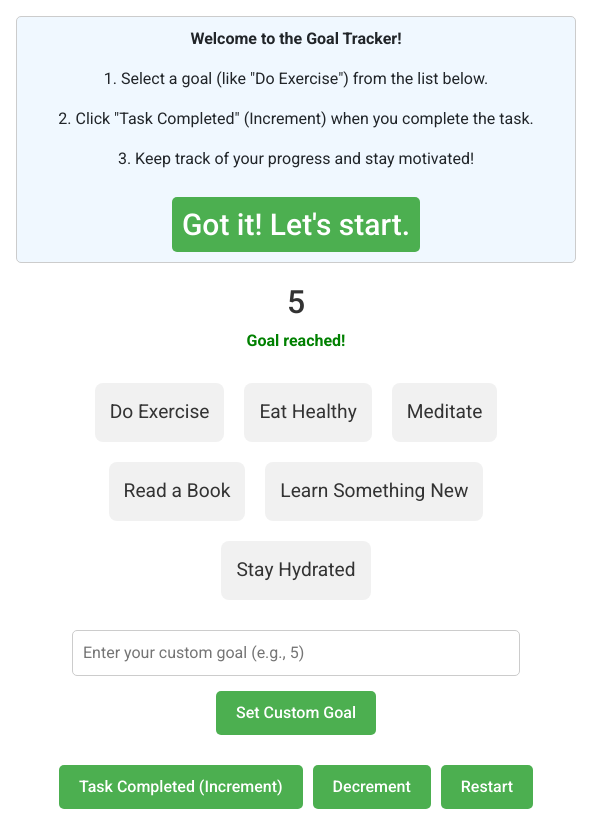
Test: Counter › increments the count when the increment button is clicked
This screenshot has width=593, height=826.
Click the button with test id "increment": coordinates (181, 787) [59,765,303,809]
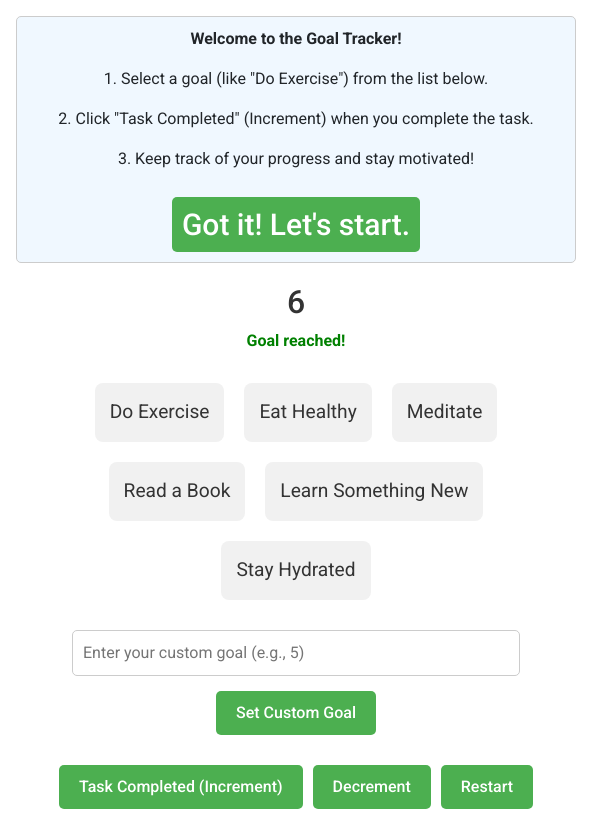
Result: the heading "6" is shown at [287,283,305,321]
